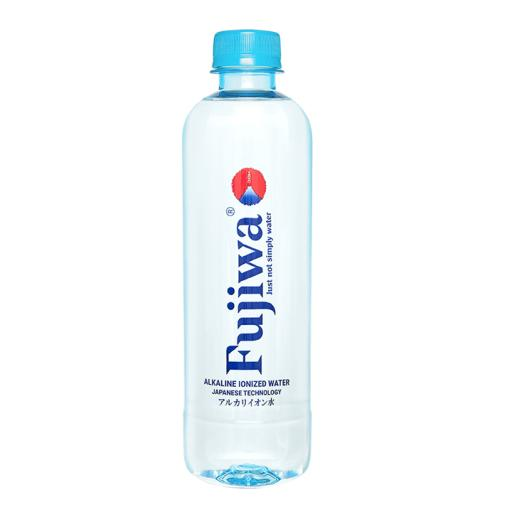bottle: (183, 31, 311, 488)
